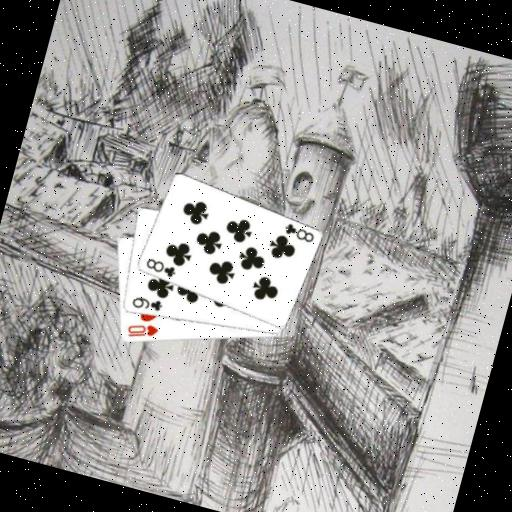10H: (123, 316, 161, 346)
8C: (279, 218, 318, 245), (141, 254, 179, 280)
9C: (127, 290, 165, 316)
